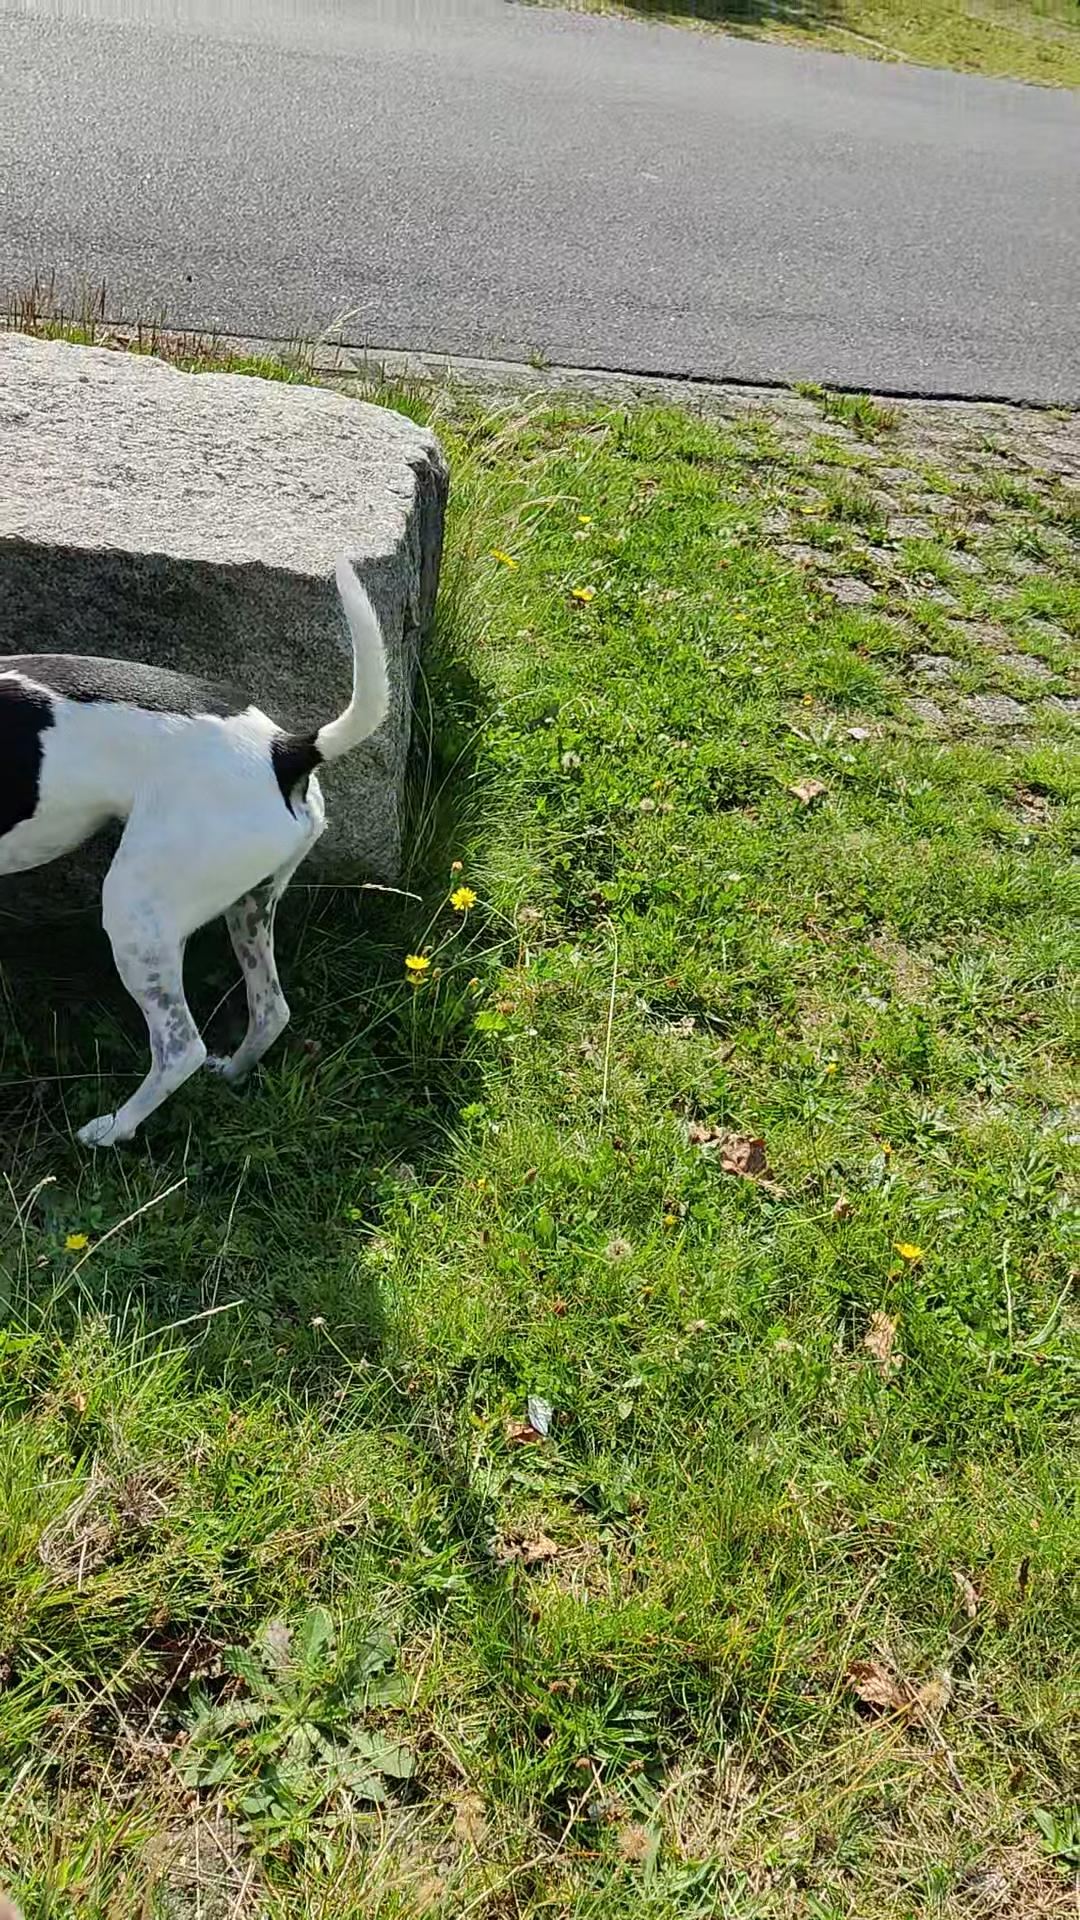Dog: (0, 542, 401, 1153)
